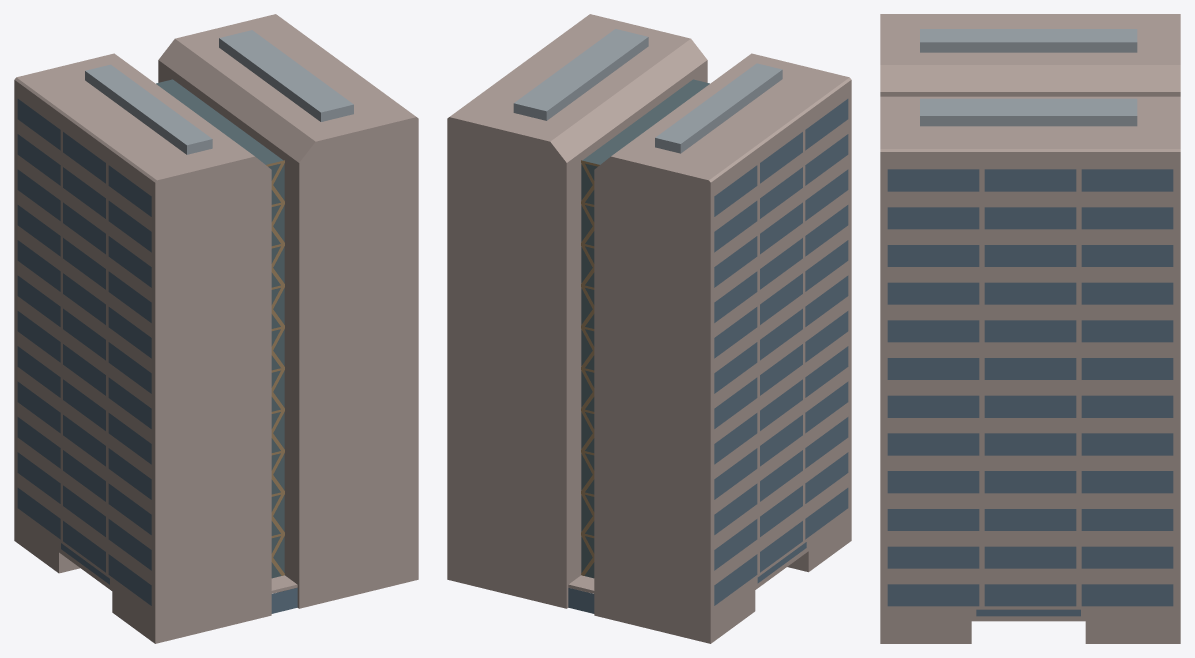
File: msp-hennepin-county-government-center.glb
The picture shows the model from 3 angles, left to right: view 1: azimuth 30°, elevation 25°; view 2: azimuth 150°, elevation 25°; view 3: azimuth 270°, elevation 25°; orthographic projection. The views are drawn at different scales.
Visible parts, largest first — view 1: Hennepin County Government Center; view 2: Hennepin County Government Center; view 3: Hennepin County Government Center.
Part boxes in pixels (box(x1,y1,x2,y2)): Hennepin County Government Center: box(14, 14, 418, 643); Hennepin County Government Center: box(447, 14, 851, 643); Hennepin County Government Center: box(880, 14, 1180, 643).
Bounding box in the file's own units: 71.82 × 123 × 66.4.
